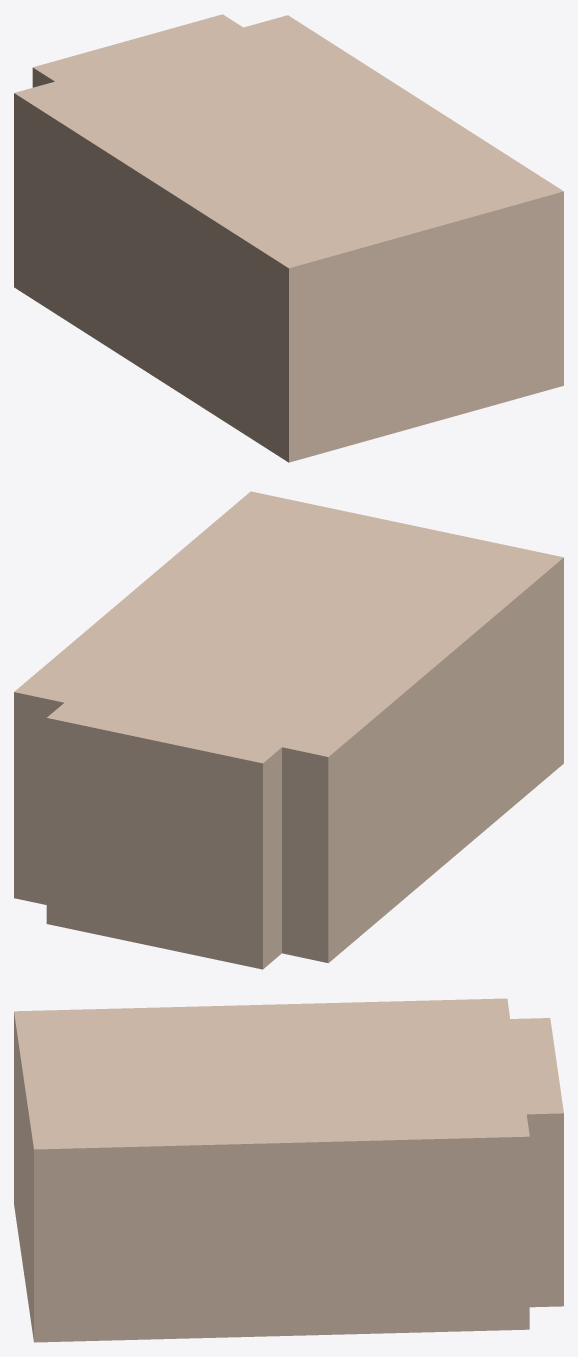
The picture shows the model from 3 angles, top to bottom: view 1: azimuth 30°, elevation 25°; view 2: azimuth 150°, elevation 25°; view 3: azimuth 270°, elevation 25°; orthographic projection. The views are drawn at different scales.
Parts seen in each view (by area): view 1: SM_179e1149c192252b2b8d; view 2: SM_179e1149c192252b2b8d; view 3: SM_179e1149c192252b2b8d.
Part boxes in pixels (x1,y1,x2,y2): SM_179e1149c192252b2b8d: (14, 14, 563, 462); SM_179e1149c192252b2b8d: (14, 491, 563, 969); SM_179e1149c192252b2b8d: (14, 998, 563, 1342).
Bounding box in the file's own units: 10.07 × 15.5 × 6.
